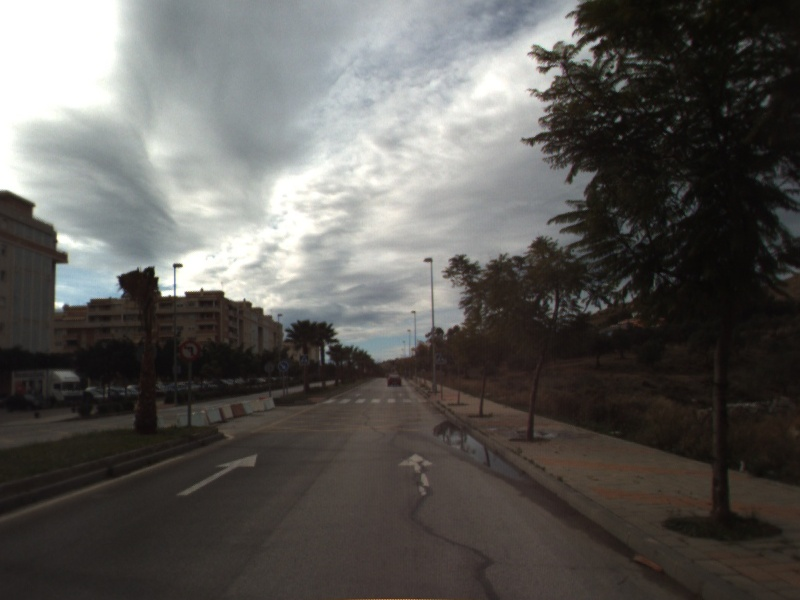STRAIGHT: (174, 451, 260, 497), (396, 451, 437, 498)
